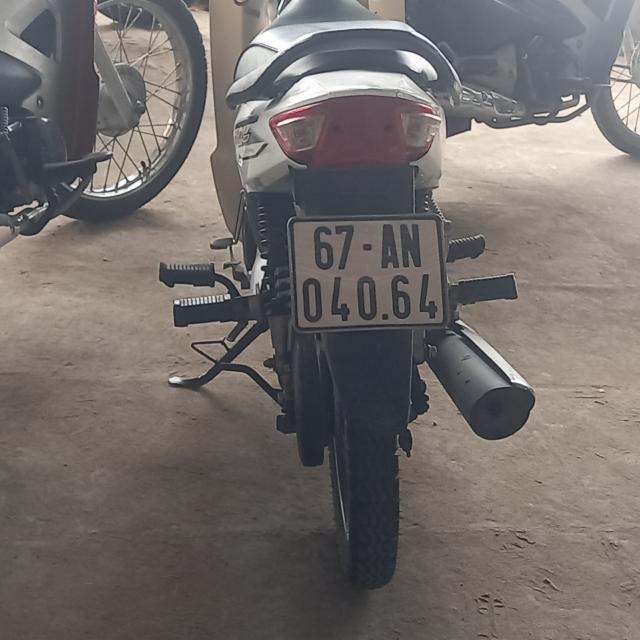0: (302, 277, 322, 322), (357, 276, 377, 321)
4: (331, 276, 350, 321), (420, 274, 437, 319)
6: (314, 227, 334, 270), (392, 275, 411, 319)
7: (334, 224, 355, 270)
A: (380, 224, 400, 269)
N: (401, 223, 421, 268)
